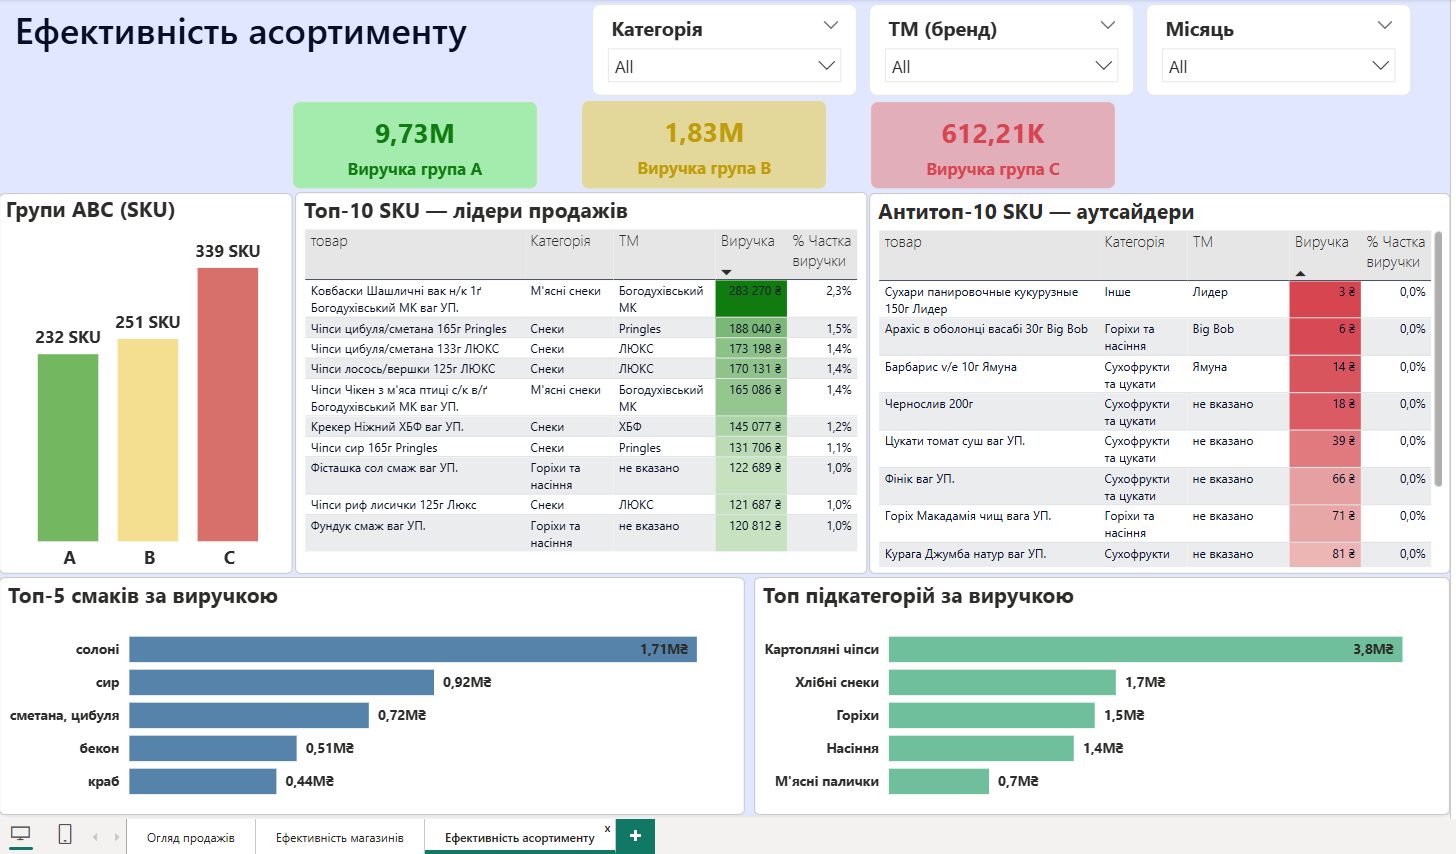

Layout of this report page (visuals, bound fields, positions):
{"tool":"powerbi","page":{"name":"Ефективність асортименту","canvas":[1280,720],"ordinal":2},"visuals":[{"type":"slicer","fields":{"Values":["довідник.Категорія"]},"box":[522.9,4.3,234.3,81.4],"z":0},{"type":"slicer","fields":{"Values":["довідник.ТМ"]},"box":[767.1,4.3,234.3,81.4],"z":1000},{"type":"textbox","box":[8.6,0,428.6,62.9],"z":2000},{"type":"slicer","fields":{"Values":["DimDate.Місяць"]},"box":[1011.4,4.3,234.3,81.4],"z":3000},{"type":"columnChart","title":"Групи ABC (SKU)","fields":{"Y":["_Measures.SKU по ABC"],"Category":["DimDictionary.ABC_col"]},"box":[0,170.7,258.8,336.2],"z":4000},{"type":"clusteredBarChart","title":"Топ-5 смаків за виручкою","fields":{"Category":["DimDictionary.Смак"],"Y":["_Measures.Виручка"]},"box":[0,510,657.5,210],"z":5000},{"type":"tableEx","title":"Топ-10 SKU — лідери продажів","fields":{"Values":["DimDictionary.товар","DimDictionary.Категорія","DimDictionary.ТМ","_Measures.Виручка","_Measures.% Частка виручки"]},"box":[261,170.3,504.9,336.6],"z":6000},{"type":"tableEx","title":"Антитоп-10 SKU — аутсайдери","fields":{"Values":["DimDictionary.товар","DimDictionary.Категорія","DimDictionary.ТМ","_Measures.Виручка","_Measures.% Частка виручки"]},"box":[767.5,170.7,512.5,336.2],"z":7000},{"type":"clusteredBarChart","title":"Топ підкатегорій за виручкою","fields":{"Category":["DimDictionary.Підкатегорія"],"Y":["_Measures.Виручка"]},"box":[666.2,510,613.8,210],"z":8000},{"type":"card","title":"Виручка","fields":{"Values":["_Measures.Виручка група A"]},"box":[258.3,90,216.7,78.3],"z":9000},{"type":"card","title":"Виручка","fields":{"Values":["_Measures.Виручка група B"]},"box":[513.1,89.3,217.1,78.6],"z":10000},{"type":"card","title":"Виручка","fields":{"Values":["_Measures.Виручка група C"]},"box":[768.3,90,216.7,78.3],"z":11000}]}

Visuals, with their boxes on the page's 1280x720 design canvas (x1, y1, x2, y2). These are canvas units, not pixel positions in the 1456x854 screenshot, which may show the page scaled, cropped or inside an application window:
slicer - довідник.Категорія: box=[523, 4, 757, 86]
slicer - довідник.ТМ: box=[767, 4, 1001, 86]
textbox: box=[9, 0, 437, 63]
slicer - DimDate.Місяць: box=[1011, 4, 1246, 86]
"Групи ABC (SKU)" columnChart: box=[0, 171, 259, 507]
"Топ-5 смаків за виручкою" clusteredBarChart: box=[0, 510, 658, 720]
"Топ-10 SKU — лідери продажів" tableEx: box=[261, 170, 766, 507]
"Антитоп-10 SKU — аутсайдери" tableEx: box=[768, 171, 1280, 507]
"Топ підкатегорій за виручкою" clusteredBarChart: box=[666, 510, 1280, 720]
"Виручка" card: box=[258, 90, 475, 168]
"Виручка" card: box=[513, 89, 730, 168]
"Виручка" card: box=[768, 90, 985, 168]
